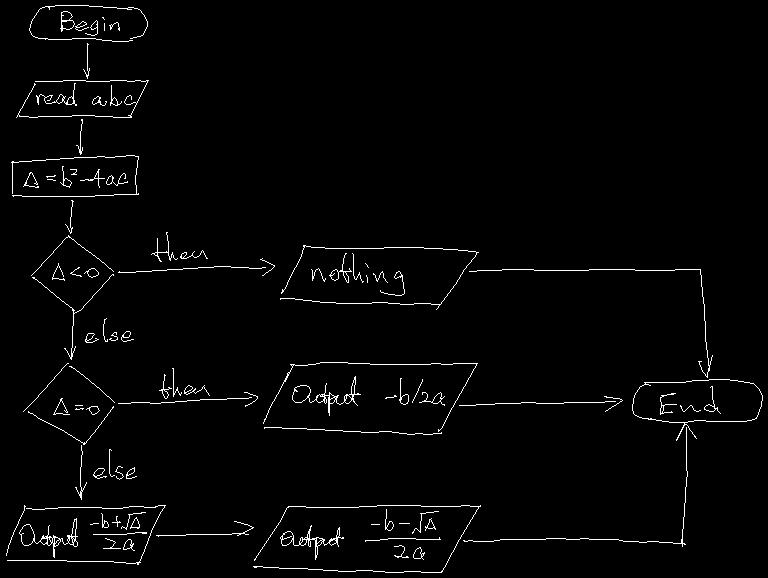arrow: (463, 423, 696, 546), (469, 269, 712, 377), (118, 258, 274, 275), (459, 396, 622, 411), (118, 392, 257, 406), (156, 521, 253, 536), (75, 445, 86, 499), (64, 310, 75, 359), (65, 200, 73, 233), (83, 43, 89, 78), (76, 119, 82, 154)
data: (263, 362, 477, 434), (253, 505, 480, 572), (280, 245, 478, 309), (6, 505, 165, 564), (16, 80, 148, 117)
decision: (23, 363, 114, 444), (31, 235, 113, 313)
process: (11, 155, 138, 196)
terminator: (632, 379, 762, 422), (29, 5, 147, 41)
text: (280, 509, 440, 559), (292, 376, 444, 415), (19, 512, 146, 557), (311, 253, 404, 295), (23, 166, 127, 187), (36, 83, 135, 105), (660, 386, 720, 414), (151, 232, 207, 261), (159, 368, 209, 398), (60, 11, 119, 35), (93, 449, 136, 479), (85, 318, 133, 342), (52, 263, 98, 280), (53, 398, 99, 414)
